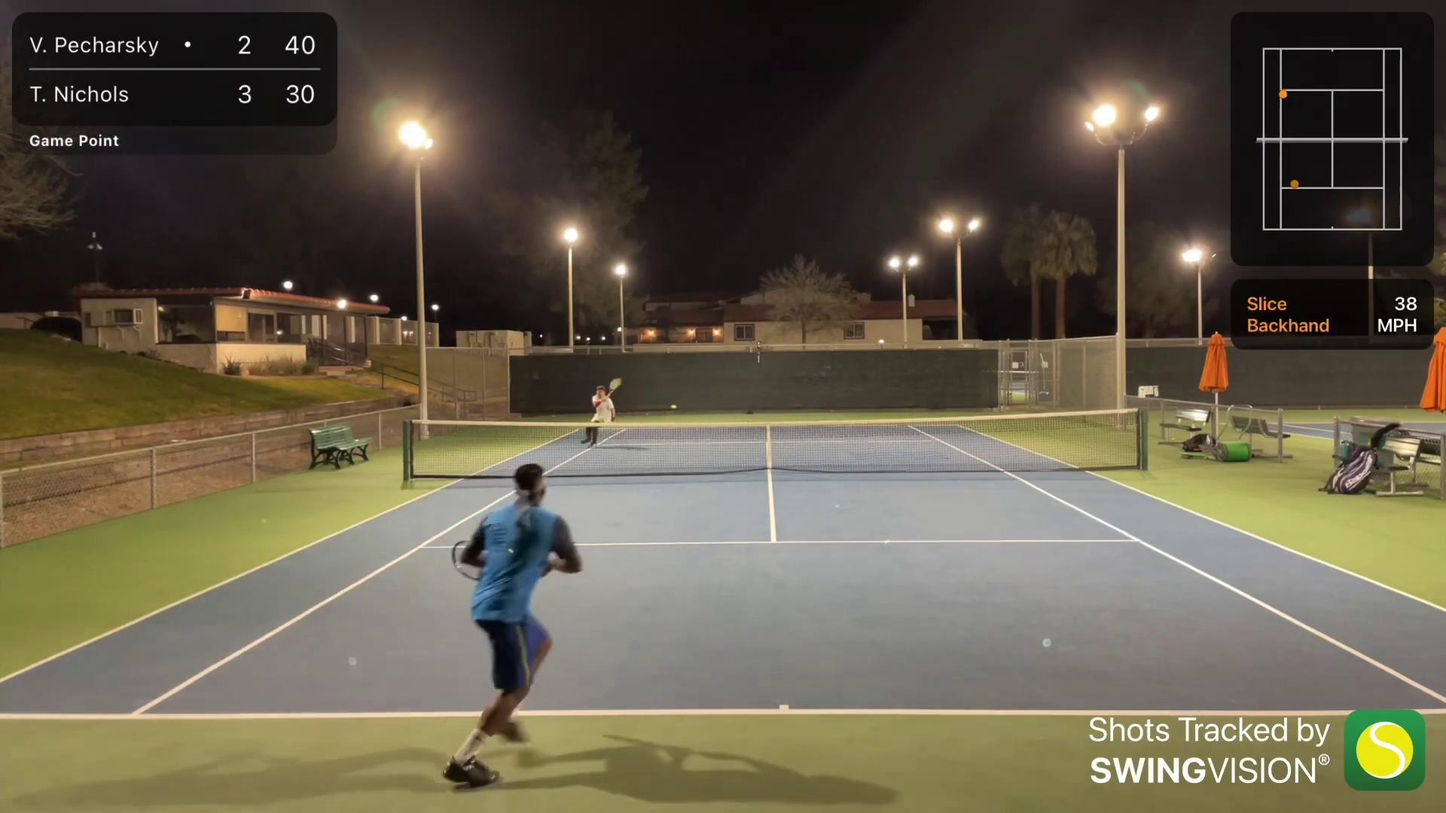ball: (665, 402, 681, 411)
